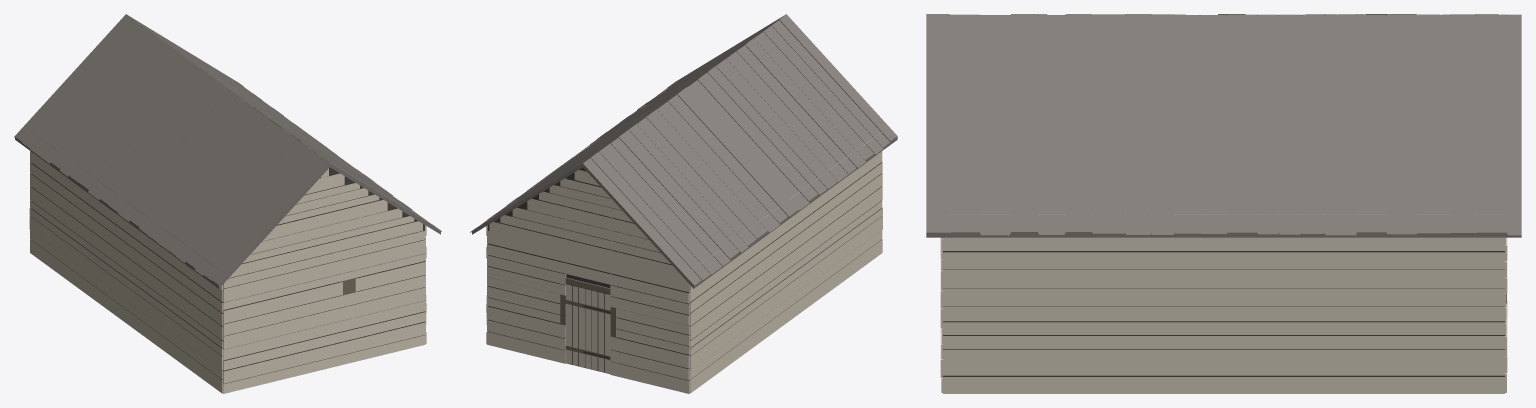
File: recon_1835_blk_randolph_dearborn_w2_18__inferred_1835.glb
3 renders of one model, left to right at view 1: azimuth 30°, elevation 25°; view 2: azimuth 150°, elevation 25°; view 3: azimuth 270°, elevation 25°, orthographic. The views are drawn at different scales.
Visible parts, largest first — view 1: recon_1835_blk_randolph_dearborn_w2_18__inferred_1835; view 2: recon_1835_blk_randolph_dearborn_w2_18__inferred_1835; view 3: recon_1835_blk_randolph_dearborn_w2_18__inferred_1835.
Boxes of the visible parts, x1,y1,x2,y2 form: recon_1835_blk_randolph_dearborn_w2_18__inferred_1835: [14, 14, 441, 393]; recon_1835_blk_randolph_dearborn_w2_18__inferred_1835: [470, 14, 897, 393]; recon_1835_blk_randolph_dearborn_w2_18__inferred_1835: [926, 14, 1521, 393].
Size of the model in its own units: 6.76 by 6.03 by 10.59.
